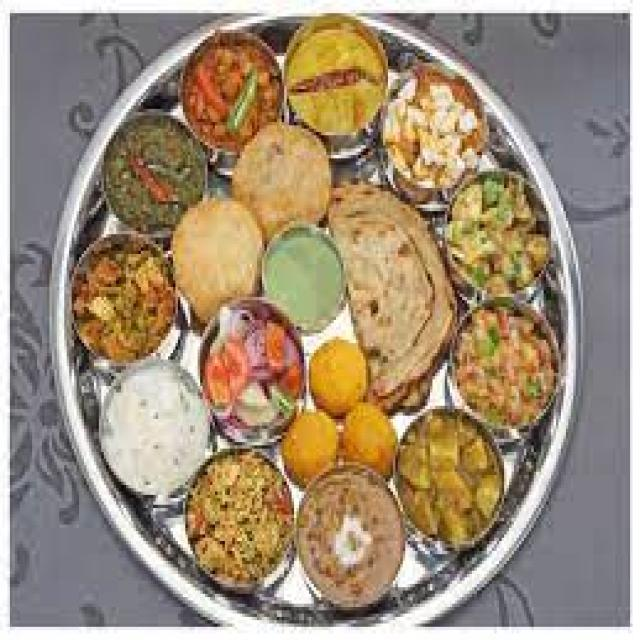dal: (306, 337, 370, 409)
rice: (94, 363, 209, 503)
roti: (344, 195, 451, 403)
